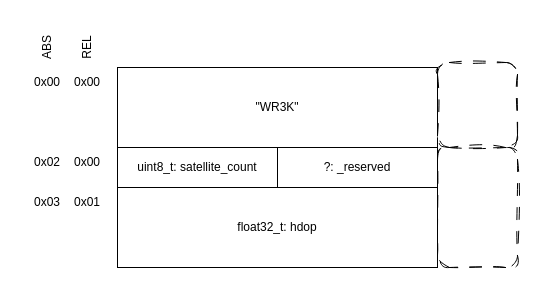
The diagram is 535 pixels wide and 285 high, and some of its shapes have lost their labels. Here are the shapes that lost their labels. From the top down, the centre of each, then its label:
(x=477, y=105): ID
(x=477, y=207): GPS
